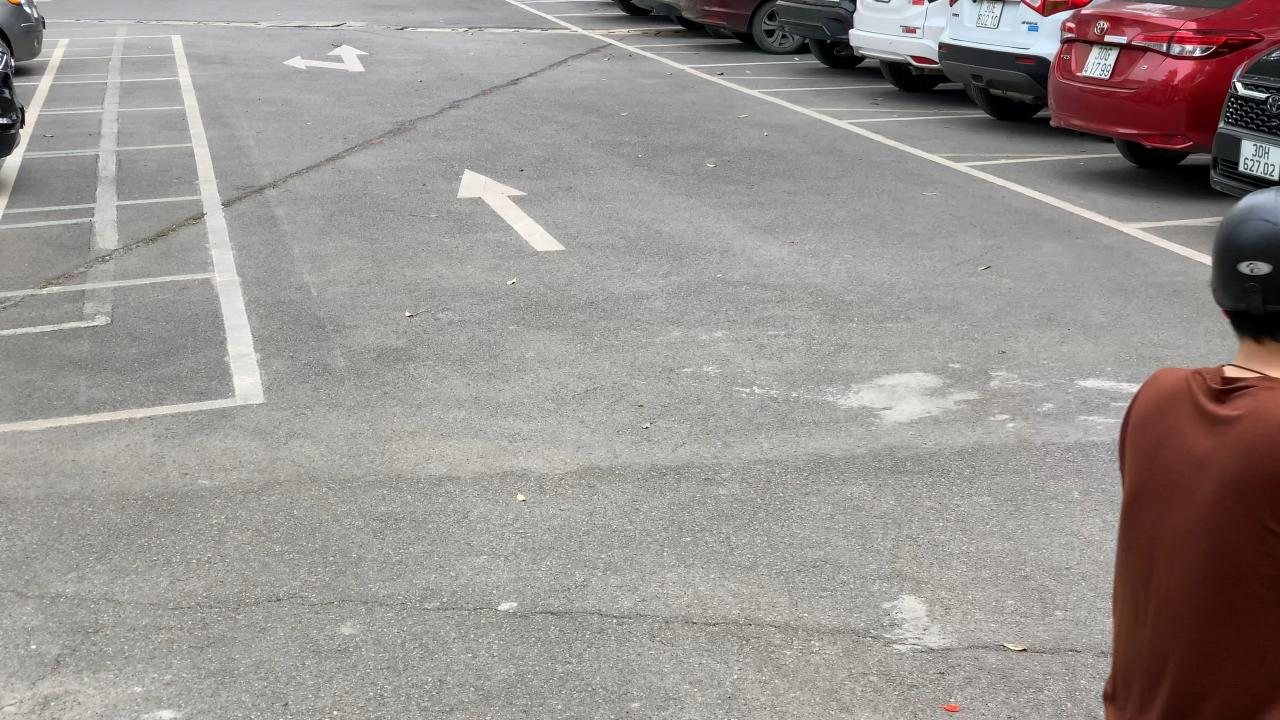helmet: (1208, 186, 1280, 312)
